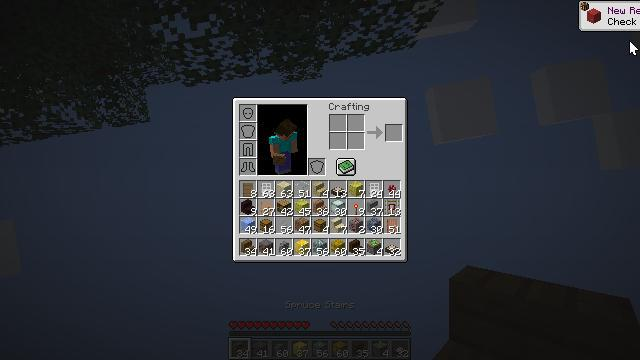cursor: (629, 40, 639, 56)
